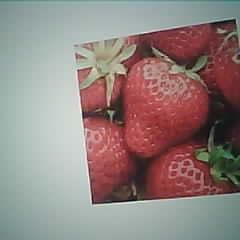straw-ripe: (123, 57, 210, 157)
